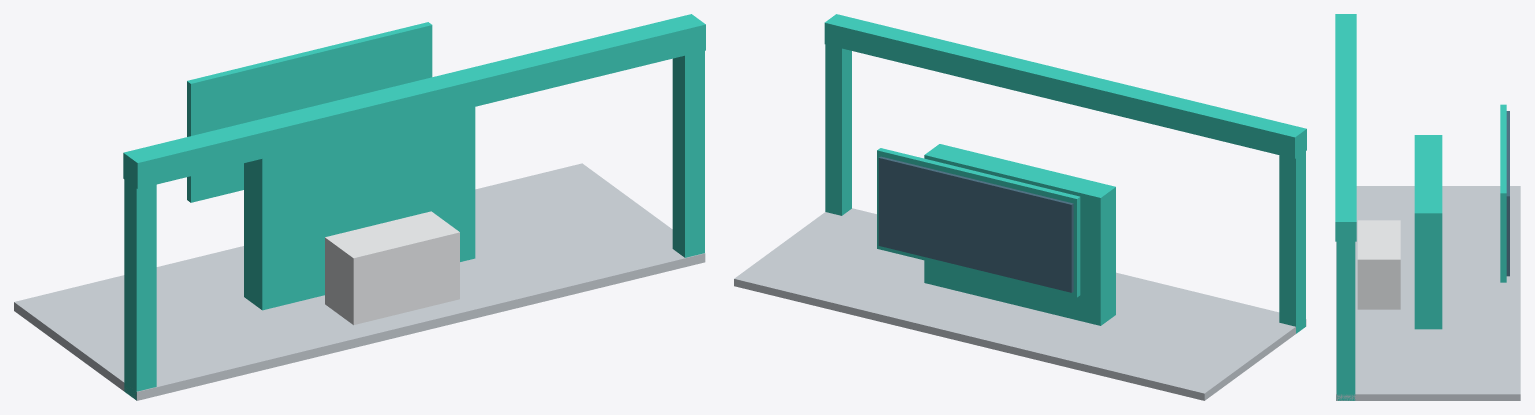
3 renders of one model, left to right at view 1: azimuth 30°, elevation 25°; view 2: azimuth 150°, elevation 25°; view 3: azimuth 270°, elevation 25°, orthographic. The views are drawn at different scales.
Visible parts, largest first — view 1: Exhibition Booth Concept; view 2: Exhibition Booth Concept; view 3: Exhibition Booth Concept.
Boxes of the visible parts, x1=… form: Exhibition Booth Concept: x1=14, y1=14, x2=705, y2=400; Exhibition Booth Concept: x1=734, y1=14, x2=1306, y2=400; Exhibition Booth Concept: x1=1335, y1=14, x2=1520, y2=400.
Bounding box in the file's own units: 8 × 3.2 × 3.01.
